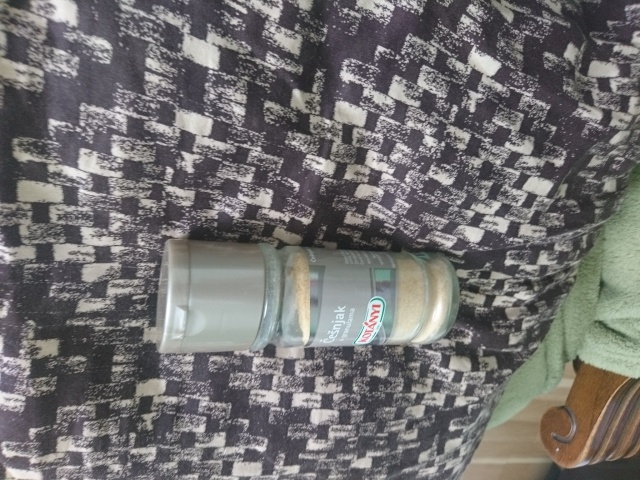Kotanyi Garlic Granules 70g: (151, 235, 463, 358)
